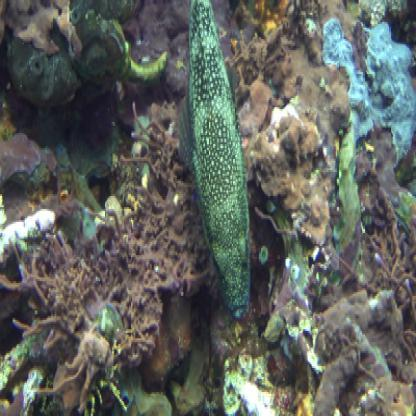Bio: (184, 0, 252, 320)
